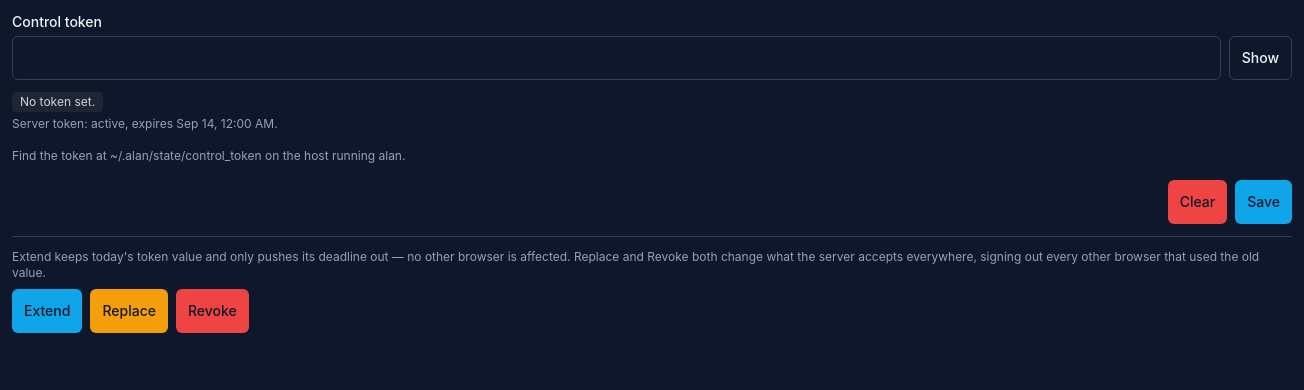
Test: ControlTokenSection › a mutation blocked by a missing token names the cause and points at Settings
Click the button with test id "control-token-extend" at point(47, 311), box x1=12 y1=289 x2=82 y2=333
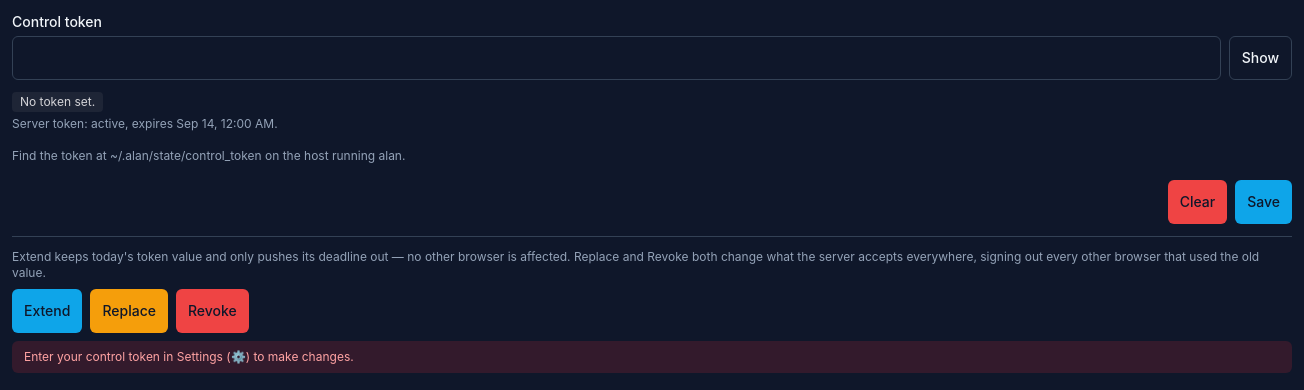
Check: the text with test id "control-token-action-error-message" shows "Enter your control token in Settings", box x1=24 y1=349 x2=354 y2=364
